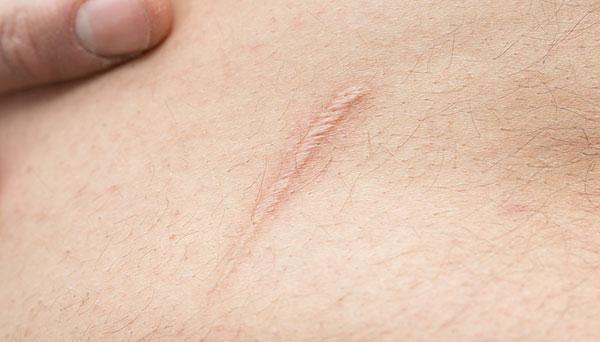scar: (242, 84, 374, 234)
